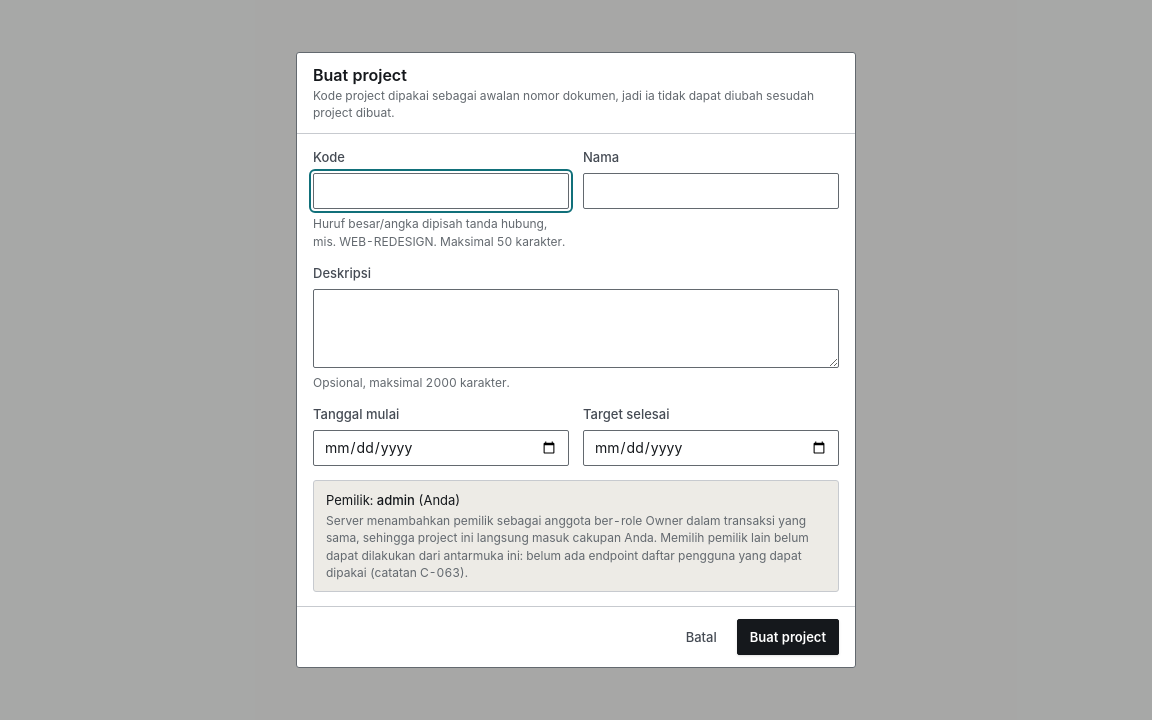
Test: dialog buat project › menolak form kosong di klien tanpa memanggil server
Click the button "Buat project" at (788, 637), box [737,619,839,655]
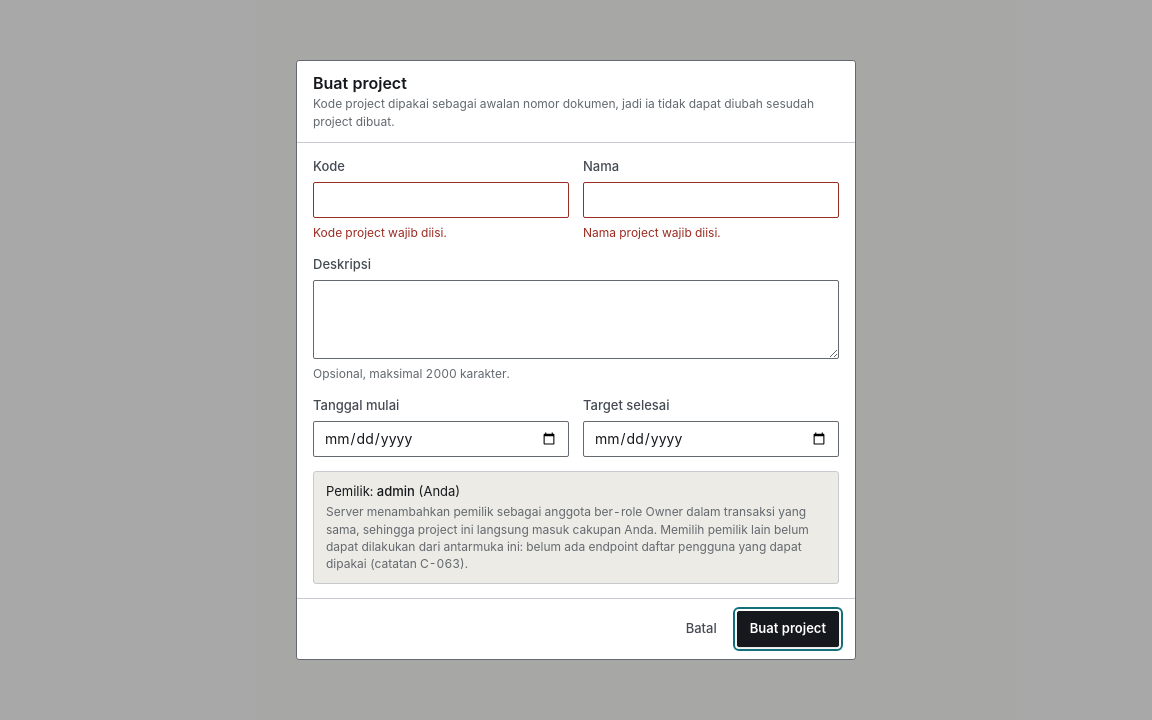
Expected: the text "Kode project wajib diisi." is shown, [313,225,447,240]
Expected: the text "Nama project wajib diisi." is shown, [583,225,721,240]
